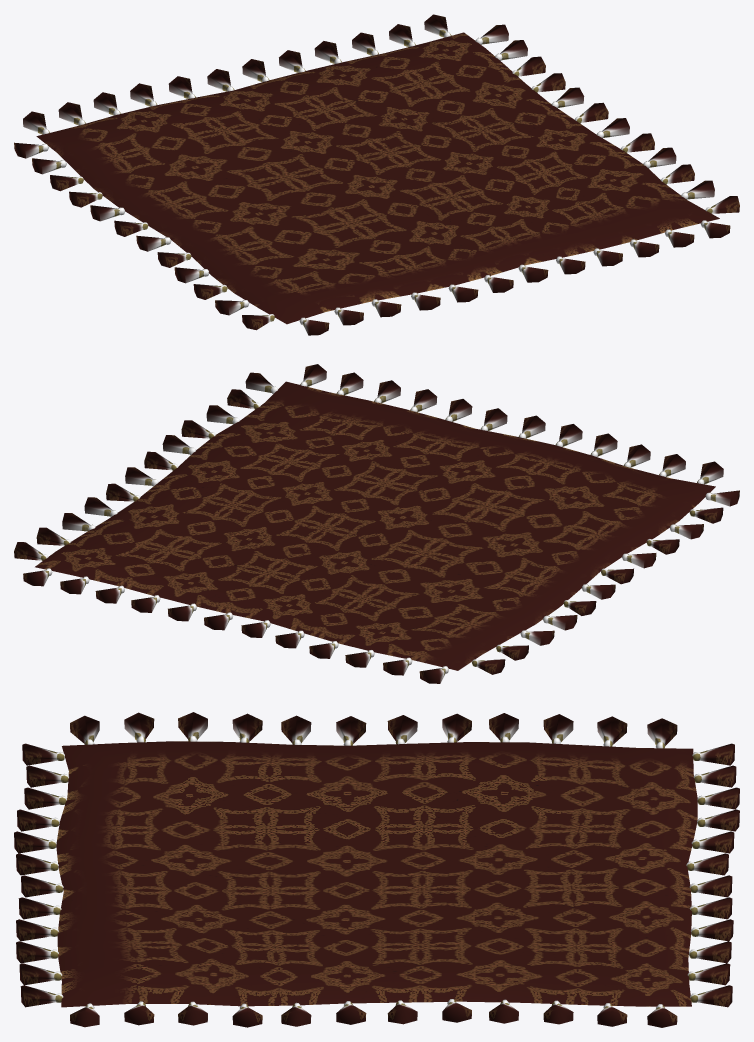
Rendered from Carpet.fbx.
3 renders of one model, top to bottom at view 1: azimuth 30°, elevation 25°; view 2: azimuth 150°, elevation 25°; view 3: azimuth 270°, elevation 25°, orthographic. The views are drawn at different scales.
Parts seen in each view (by area): view 1: Plane.002; view 2: Plane.002; view 3: Plane.002.
Boxes of the visible parts, left/top/right/bottom form: Plane.002: left=14, top=14, right=739, bottom=335; Plane.002: left=14, top=364, right=739, bottom=683; Plane.002: left=14, top=712, right=739, bottom=1027.
Size of the model in its own units: 656 by 16.18 by 670.
